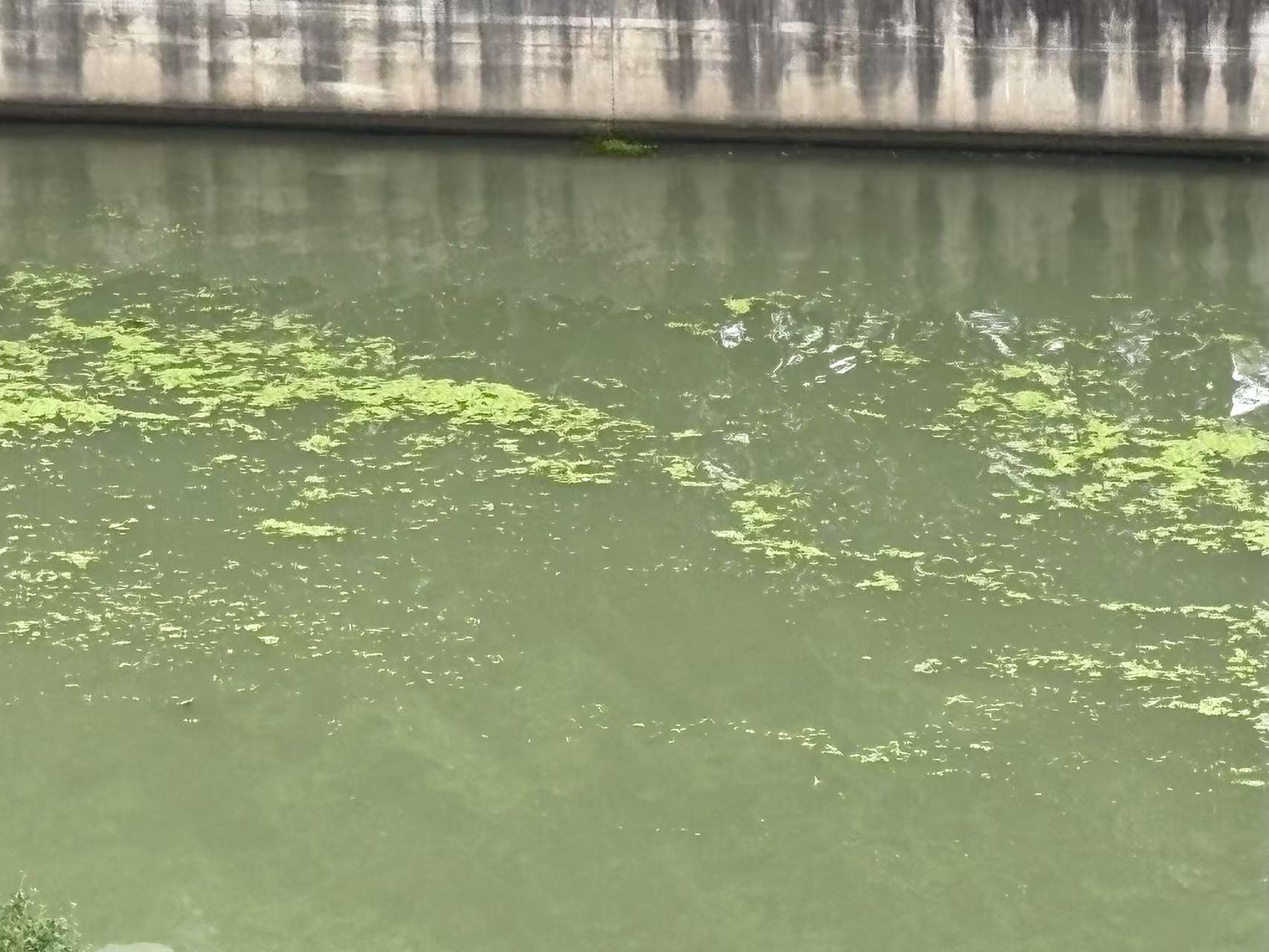Other: (968, 382, 1268, 550), (10, 271, 167, 429), (346, 375, 590, 441), (176, 322, 332, 420), (1123, 650, 1268, 714), (724, 488, 825, 570), (258, 516, 341, 534), (723, 293, 750, 316)
